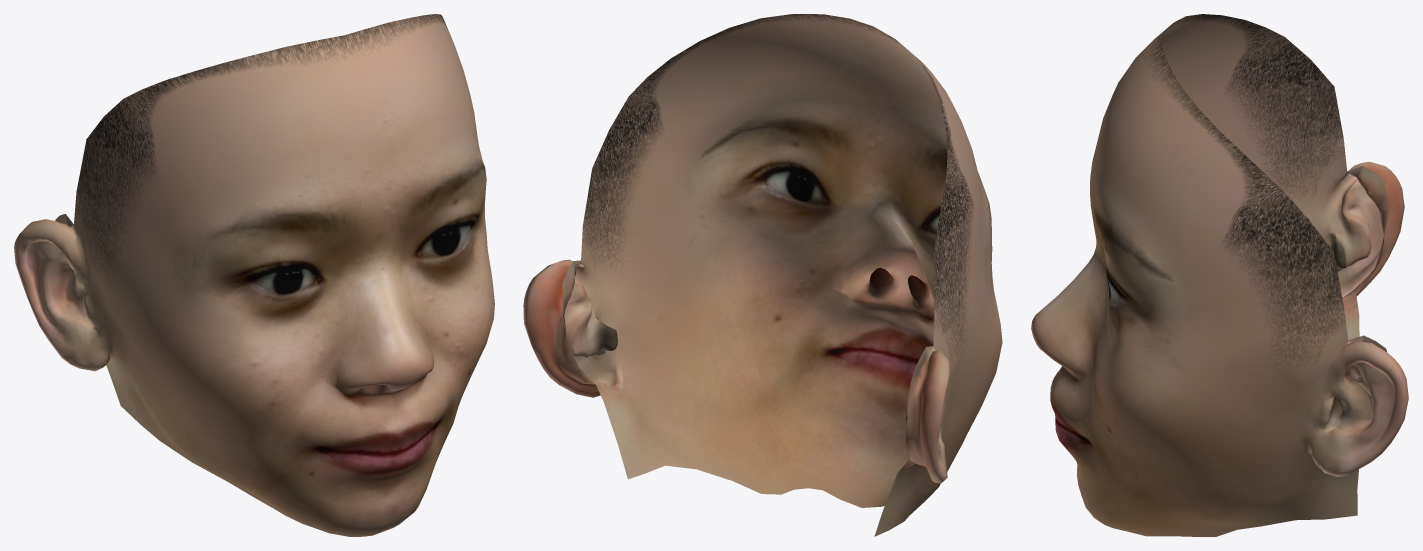
File: Alya_face.fbx
3 renders of one model, left to right at view 1: azimuth 30°, elevation 25°; view 2: azimuth 150°, elevation 25°; view 3: azimuth 270°, elevation 25°, orthographic.
Visible parts, largest first — view 1: avaturn_body.001; view 2: avaturn_body.001; view 3: avaturn_body.001.
Boxes of the visible parts, x1,y1,x2,y2 form: avaturn_body.001: (14, 14, 494, 536); avaturn_body.001: (523, 14, 1002, 536); avaturn_body.001: (1031, 14, 1408, 536).
Bounding box in the file's own units: 18.02 × 20.47 × 14.35.
1 material, 1 textured.
